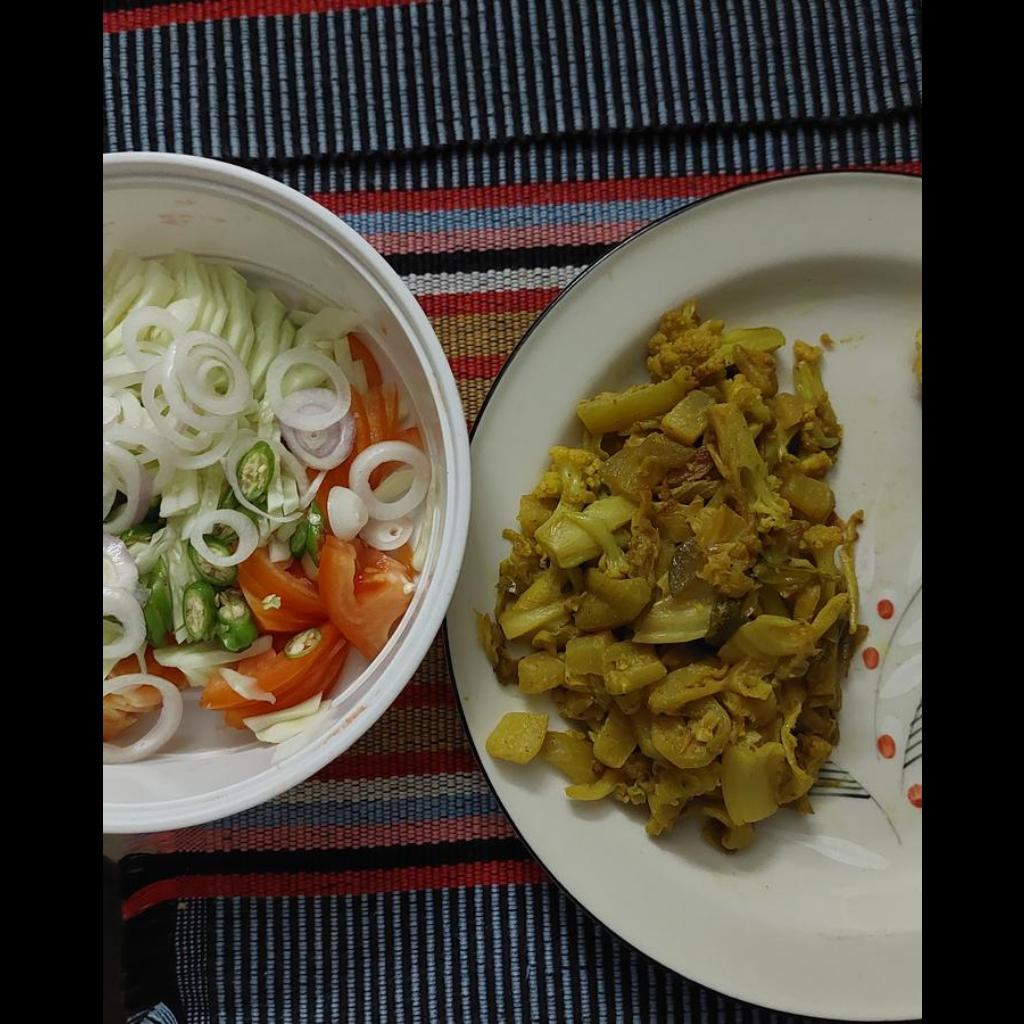salad: (103, 255, 435, 760)
vegetable: (475, 292, 865, 847)
